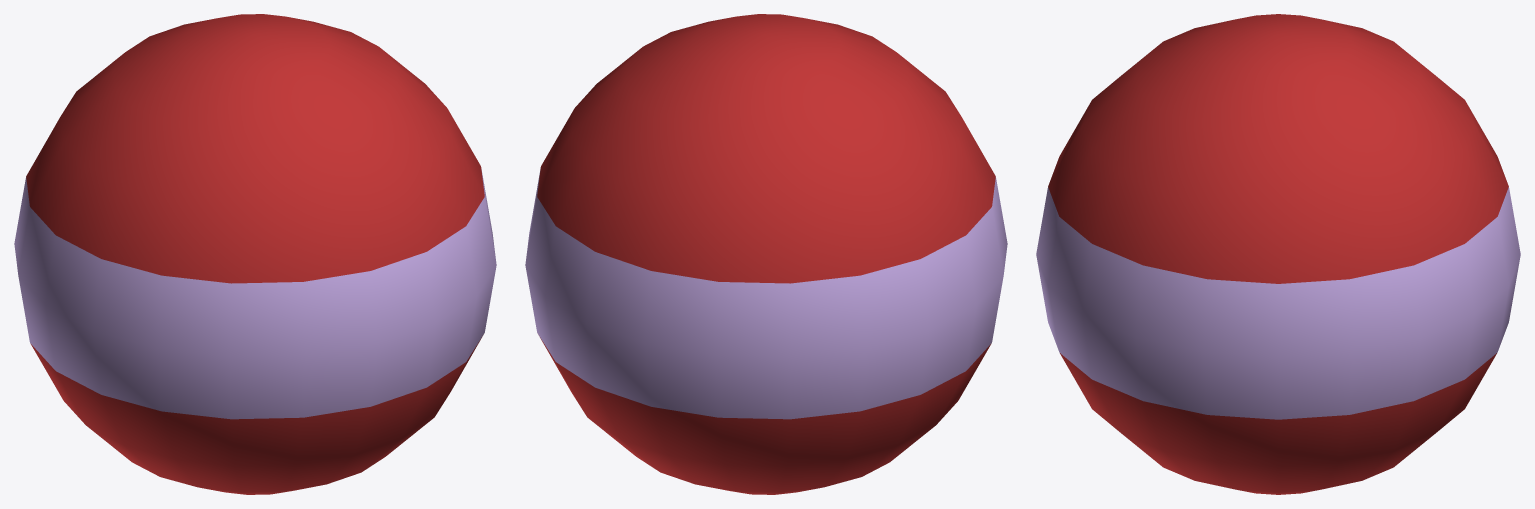
Rendered from Ball_1.glb.
3 views of the same model, side by side, from view 1: azimuth 30°, elevation 25°; view 2: azimuth 150°, elevation 25°; view 3: azimuth 270°, elevation 25° (orthographic).
Visible parts, largest first — view 1: Ball_1; view 2: Ball_1; view 3: Ball_1.
Part boxes in pixels (left/top/right/bottom): Ball_1: left=14, top=14, right=496, bottom=494; Ball_1: left=525, top=14, right=1007, bottom=494; Ball_1: left=1036, top=14, right=1520, bottom=494.
Size of the model in its own units: 0.2917 by 0.2917 by 0.2917.
Materials: 1 (1 with a texture image).
